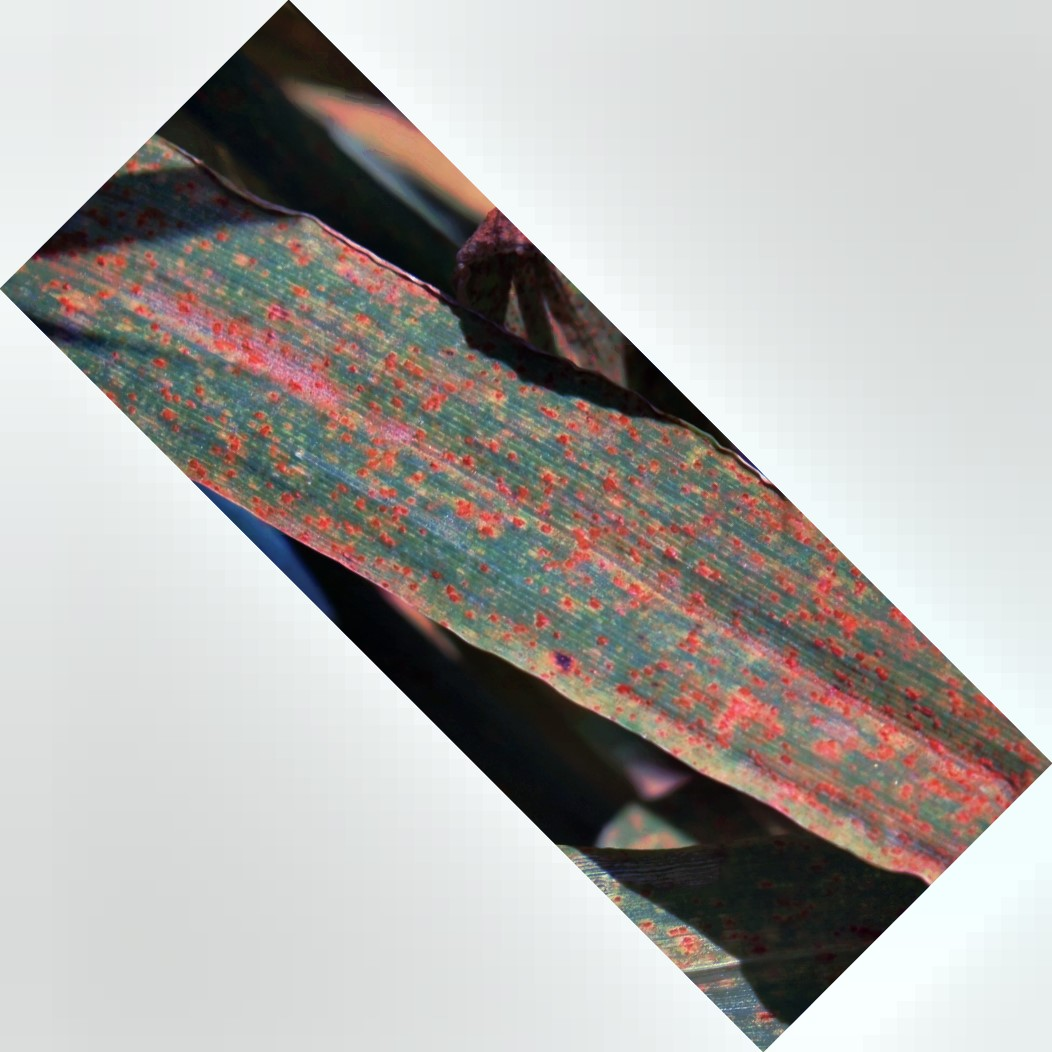Leaf Rust: (140, 257, 961, 881)
